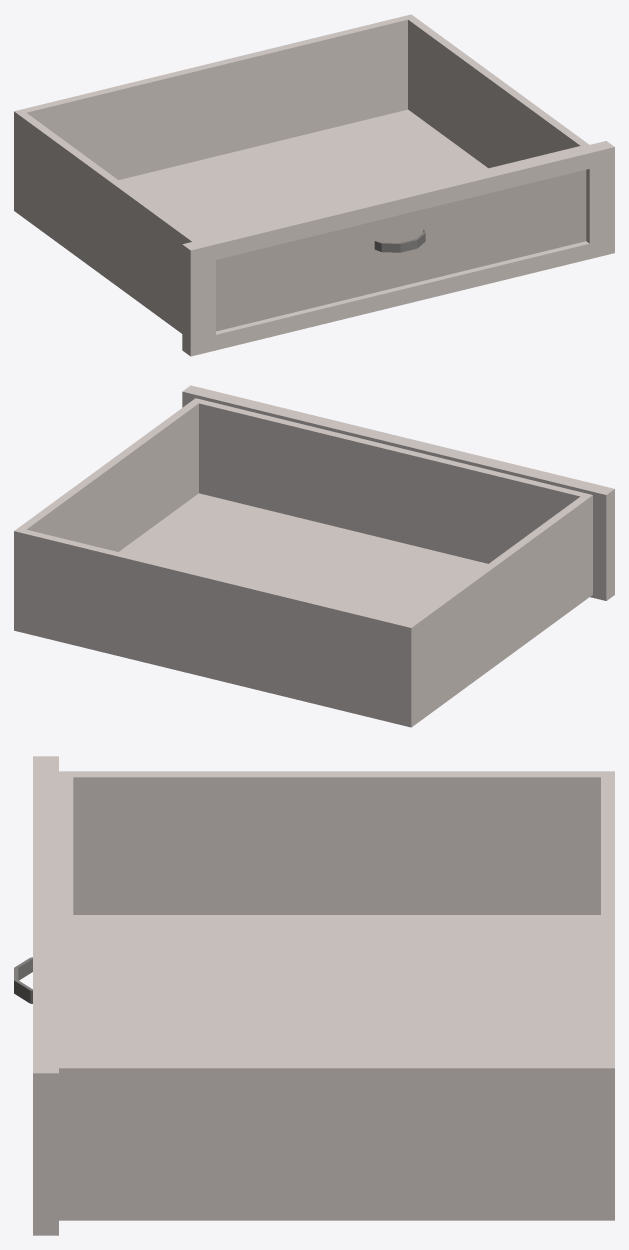
Rendered from Cupboard_07_02.fbx.
3 renders of one model, top to bottom at view 1: azimuth 30°, elevation 25°; view 2: azimuth 150°, elevation 25°; view 3: azimuth 270°, elevation 25°, orthographic. The views are drawn at different scales.
Visible parts, largest first — view 1: Cupboard_07_02; view 2: Cupboard_07_02; view 3: Cupboard_07_02.
Boxes of the visible parts, x1,y1,x2,y2 form: Cupboard_07_02: (14,14,614,356); Cupboard_07_02: (14,385,614,727); Cupboard_07_02: (14,756,614,1235).
Size of the model in its own units: 65.03 by 15.53 by 52.14.
